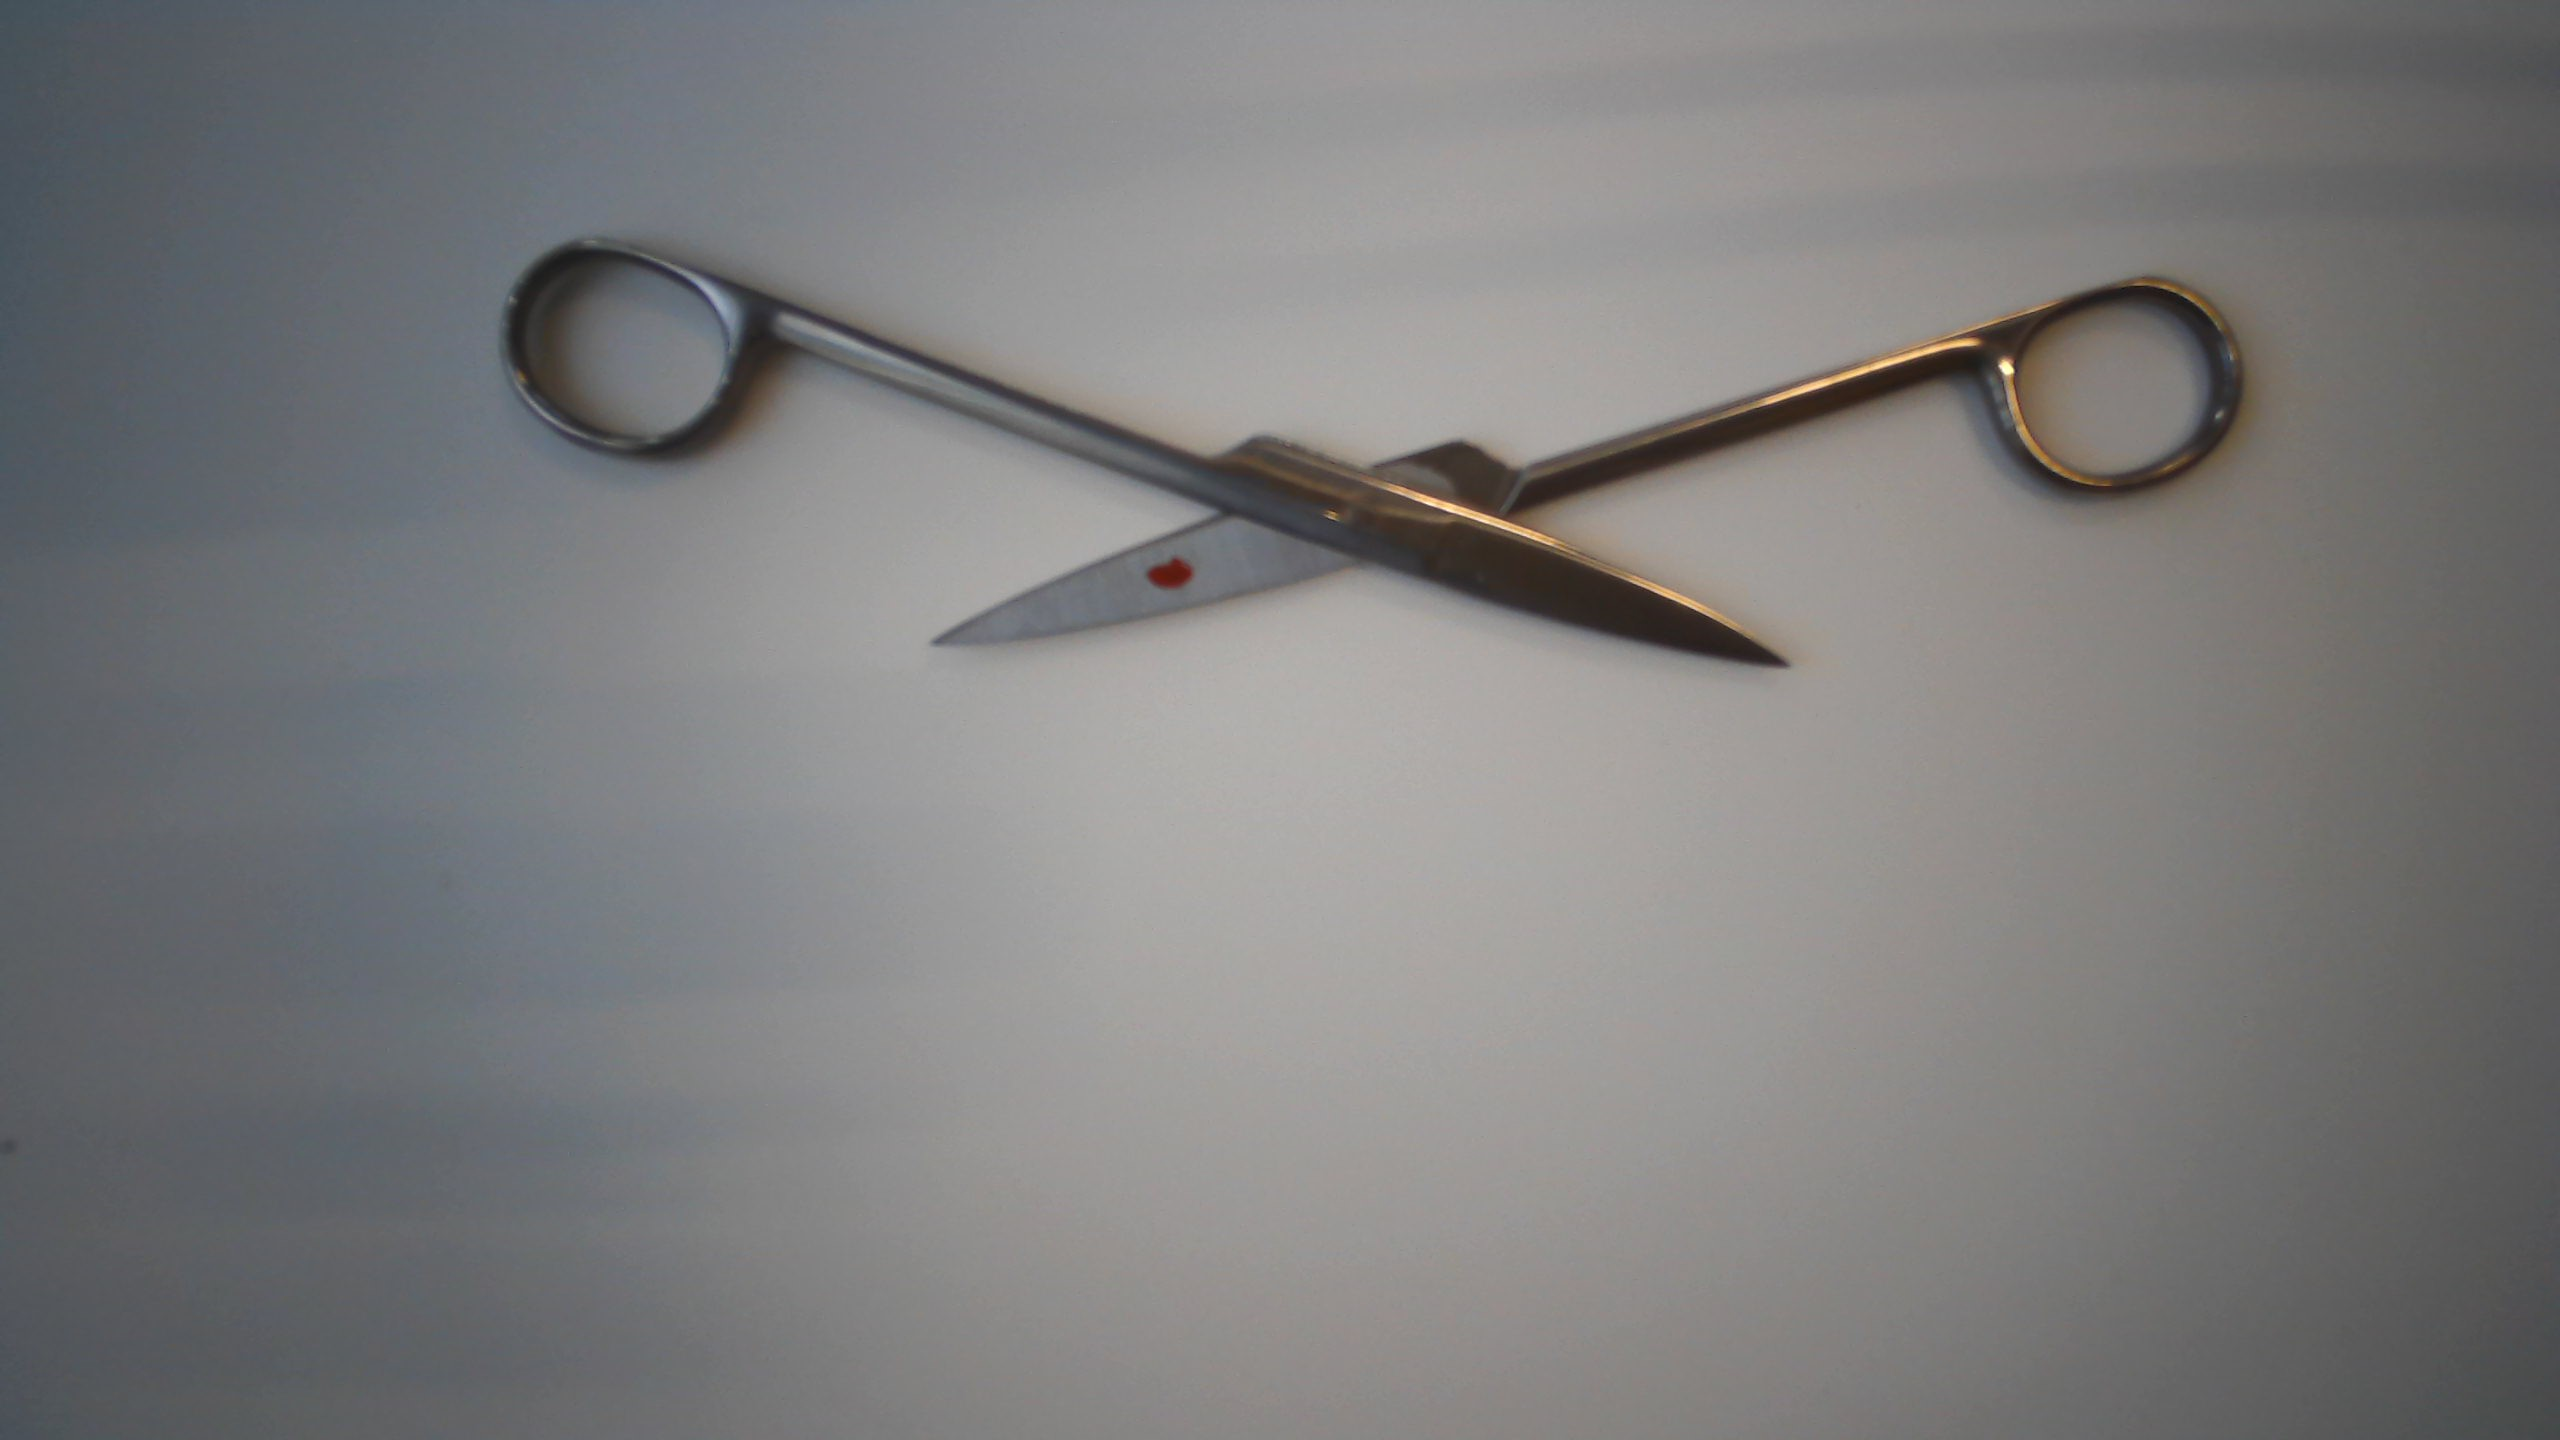Stain: (1136, 550, 1203, 600)
